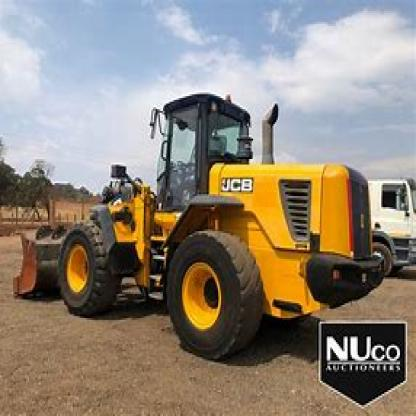bull_dozer/loader/grader: (7, 87, 377, 357)
